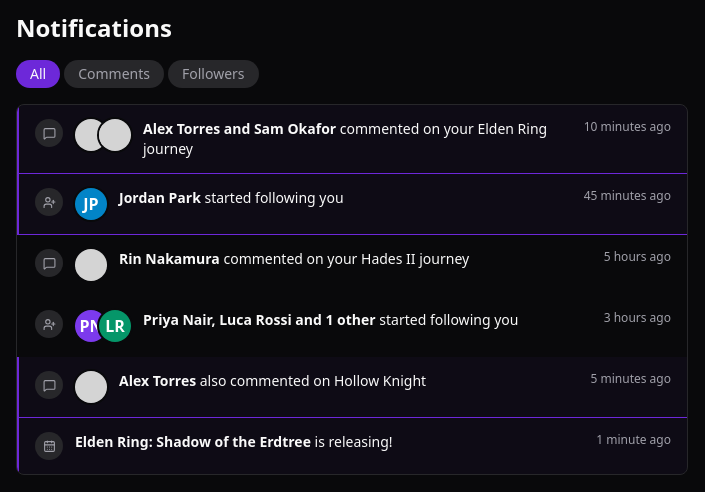
Notifications › Comments filter hides follower notifications
Click the button "Comments".
click(114, 74)  # box x1=64 y1=60 x2=164 y2=88
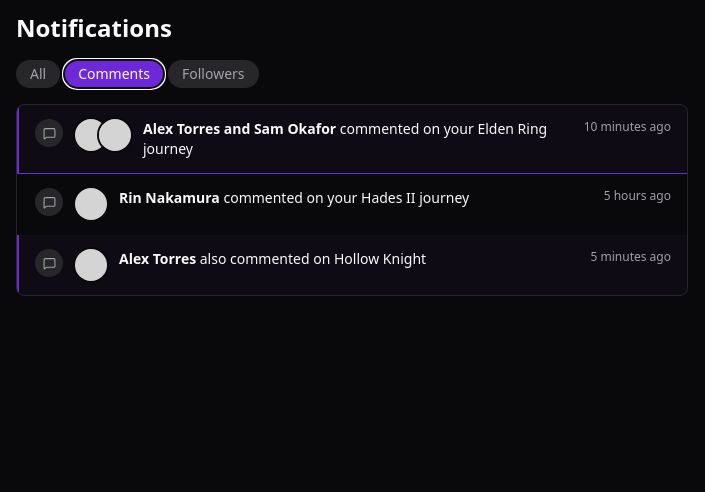
expect the link "started following you" is gone: met
